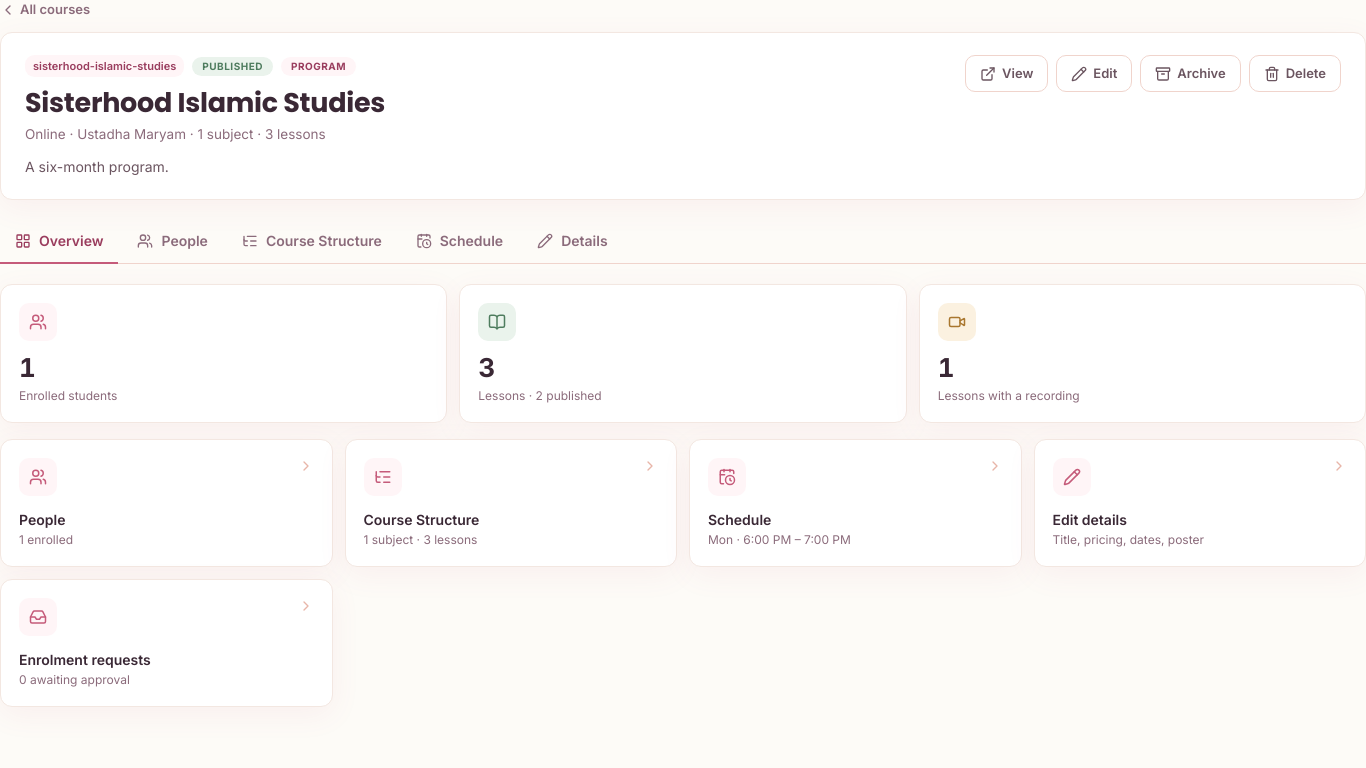
Test: CourseWorkspace › renders the offering form on Details
Click the tab "Details": (572, 242) [522, 220, 623, 264]
(page scrolled)
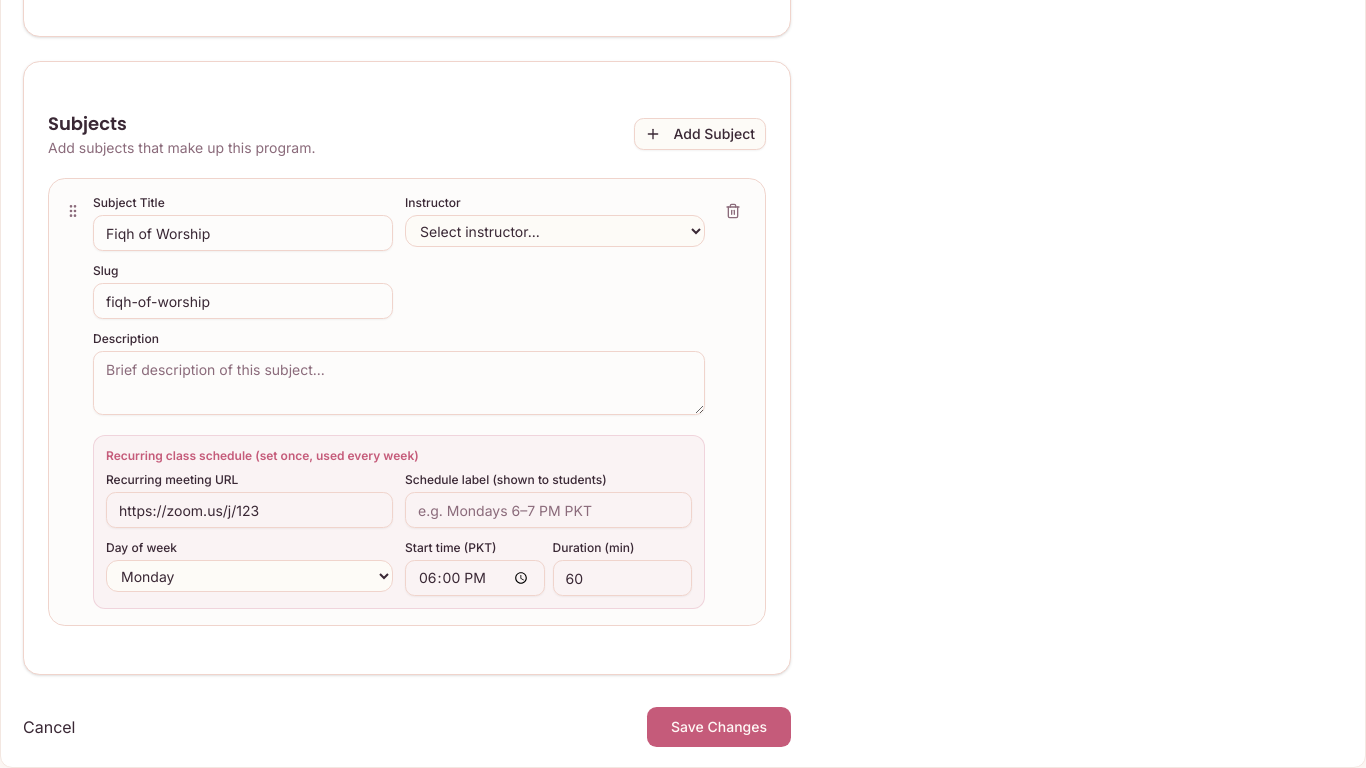
Result: the button "Save Changes" is shown at [647, 707, 791, 747]
